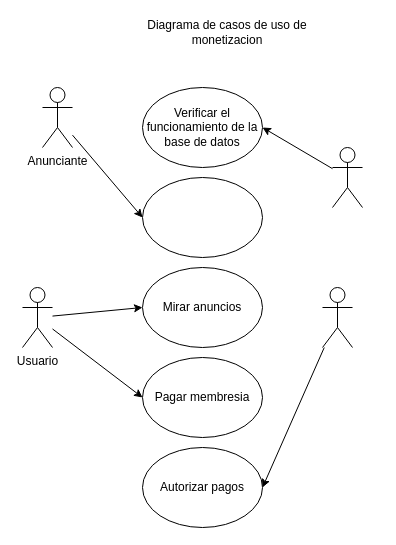
This 396x545 diagram has some shape labels left out. The centre of each missing label's shape, as x and y in pixels:
Anunciar aplicaciones: the point at 202,217
Api banco: the point at 337,317
Progrmador: the point at 347,177
